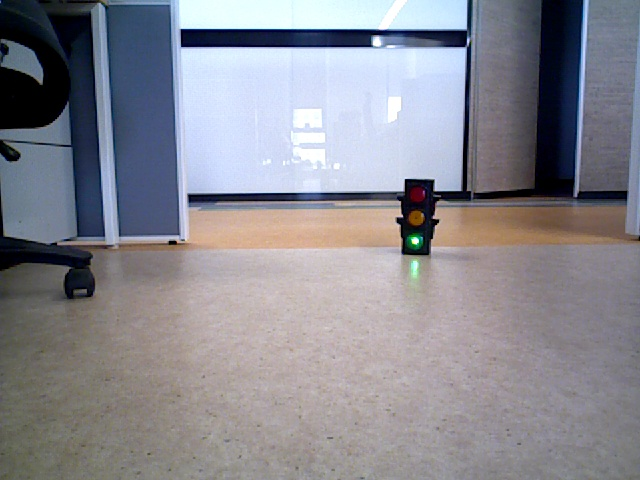green: (404, 180, 430, 250)
